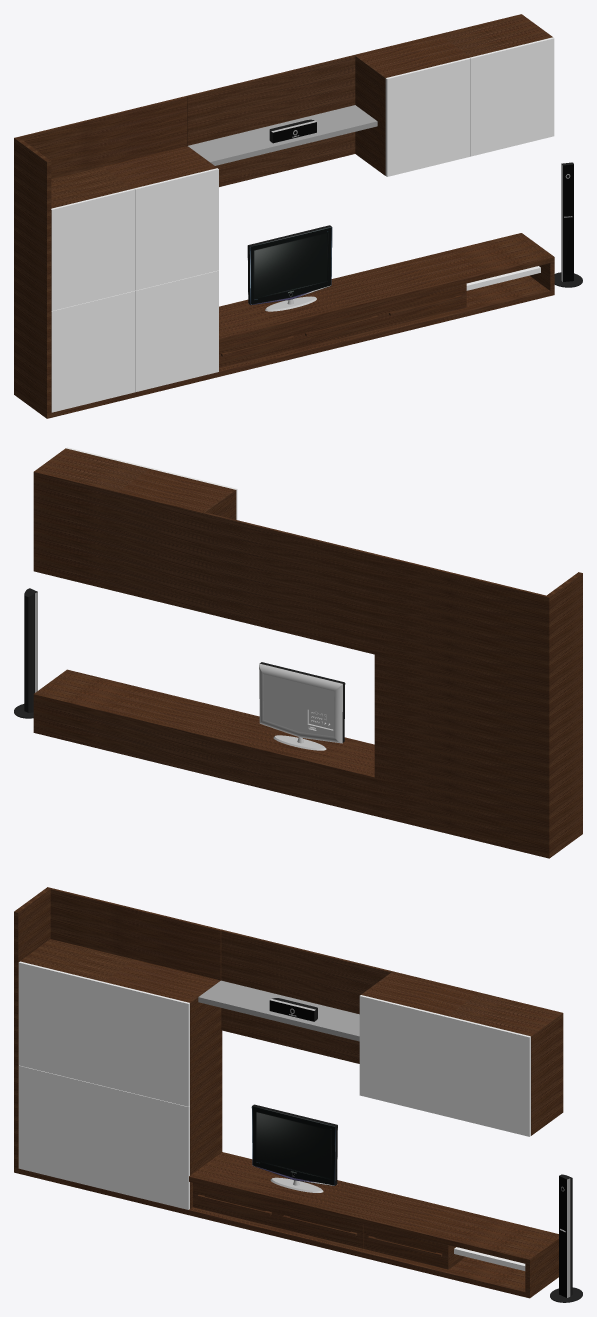
File: 6living_w400_h180_d42_670KB.gltf
3 views of the same model, one above another, from view 1: azimuth 30°, elevation 25°; view 2: azimuth 150°, elevation 25°; view 3: azimuth 330°, elevation 25° (orthographic).
Parts seen in each view (by area): view 1: root; view 2: root; view 3: root.
Part boxes in pixels (x1,y1,x2,y2): root: [14, 14, 582, 418]; root: [14, 447, 582, 858]; root: [14, 887, 582, 1302].
Size of the model in its own units: 4 by 1.8 by 0.42.
14 materials, 5 textured.
